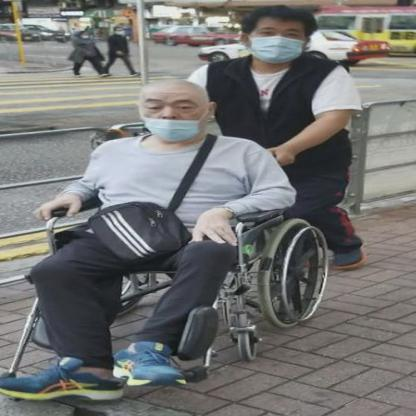wheelchair: (16, 79, 334, 398)
